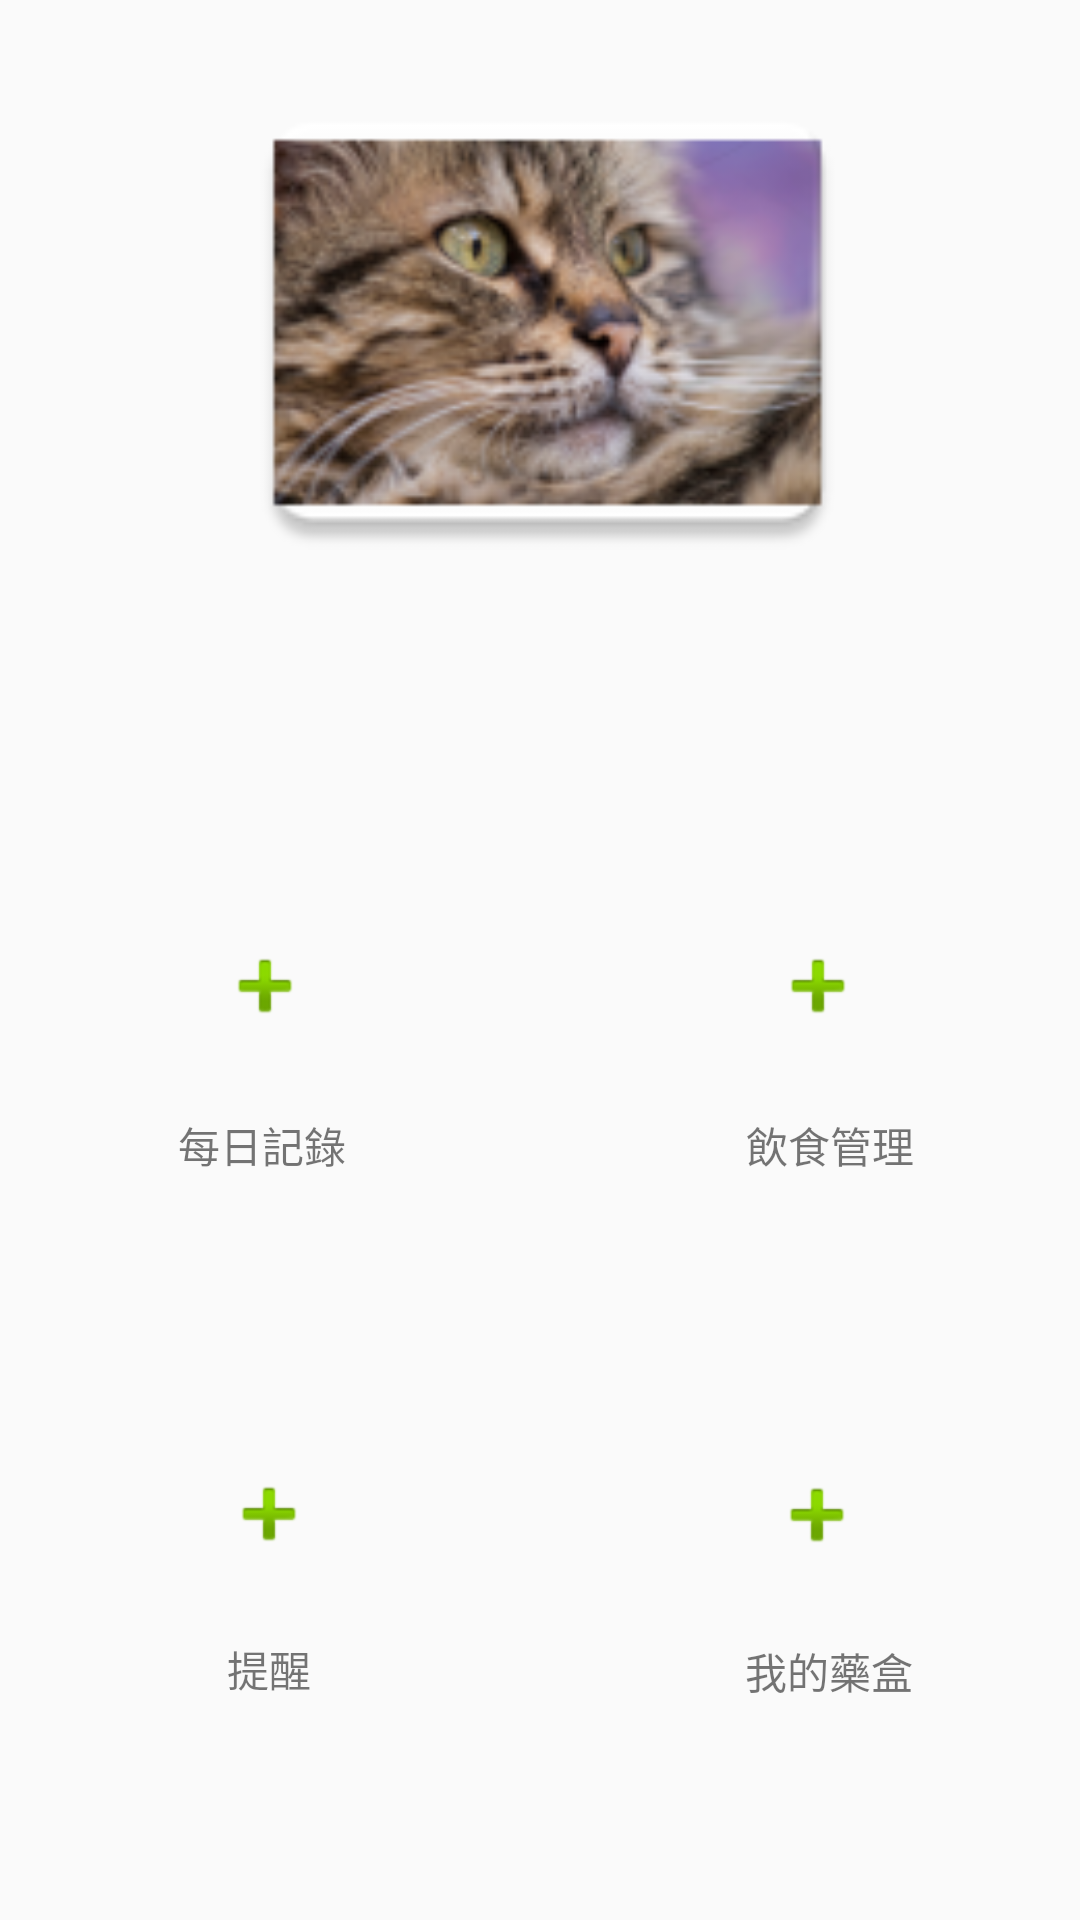

Icons on this 1080w x 1920h Android screen, each with its box as (x1, y1, x2, y2):
add: (238, 959, 292, 1013), (791, 959, 845, 1013), (242, 1487, 296, 1541), (790, 1488, 844, 1542)
